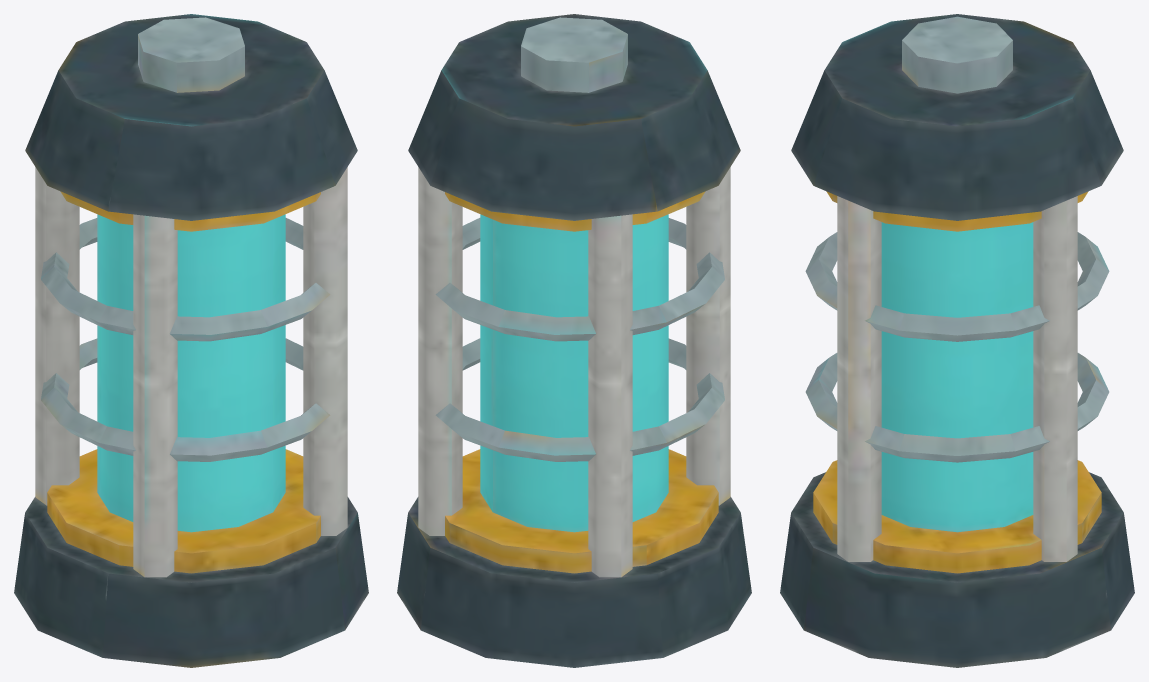
Rendered from fusion_fuel.glb.
3 views of the same model, side by side, from view 1: azimuth 30°, elevation 25°; view 2: azimuth 150°, elevation 25°; view 3: azimuth 270°, elevation 25° (orthographic).
Parts seen in each view (by area): view 1: te_res_fusion_fuel; view 2: te_res_fusion_fuel; view 3: te_res_fusion_fuel.
Boxes of the visible parts, left/top/right/bottom form: te_res_fusion_fuel: left=14, top=14, right=368, bottom=667; te_res_fusion_fuel: left=397, top=14, right=751, bottom=667; te_res_fusion_fuel: left=780, top=14, right=1134, bottom=667.
Bounding box in the file's own units: 0.32 × 0.55 × 0.32.
Materials: 1 (1 with a texture image).
